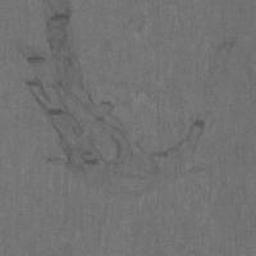Water spot: (18, 0, 205, 197), (209, 37, 236, 86)
